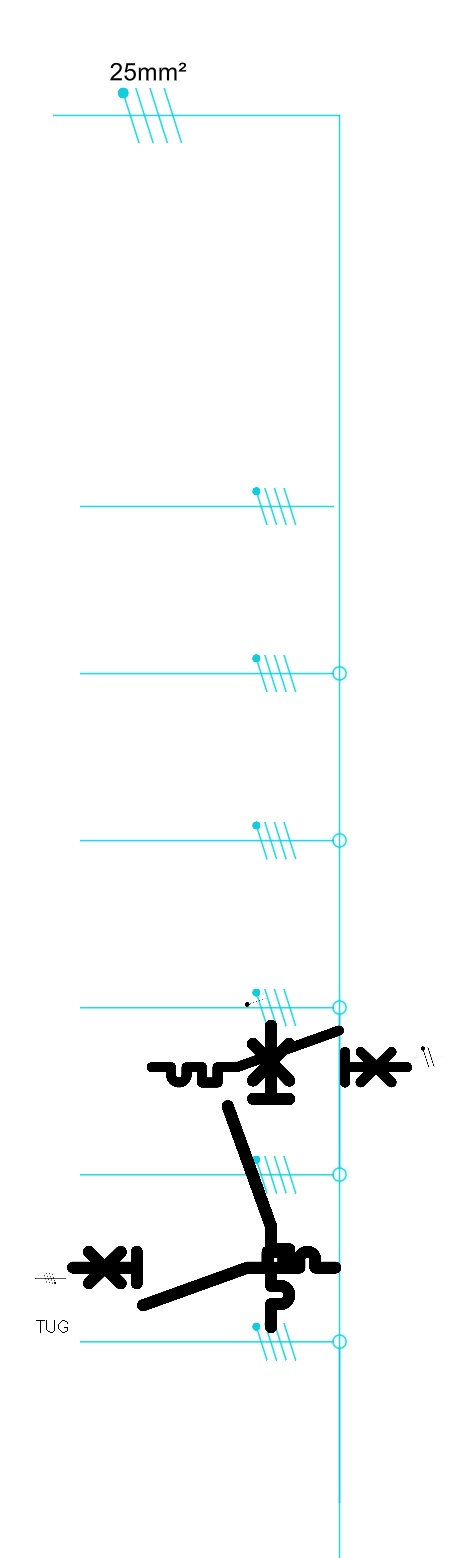interruptor_termomagnetico: (220, 1017, 297, 1334), (66, 1245, 342, 1312), (145, 1024, 413, 1089)
